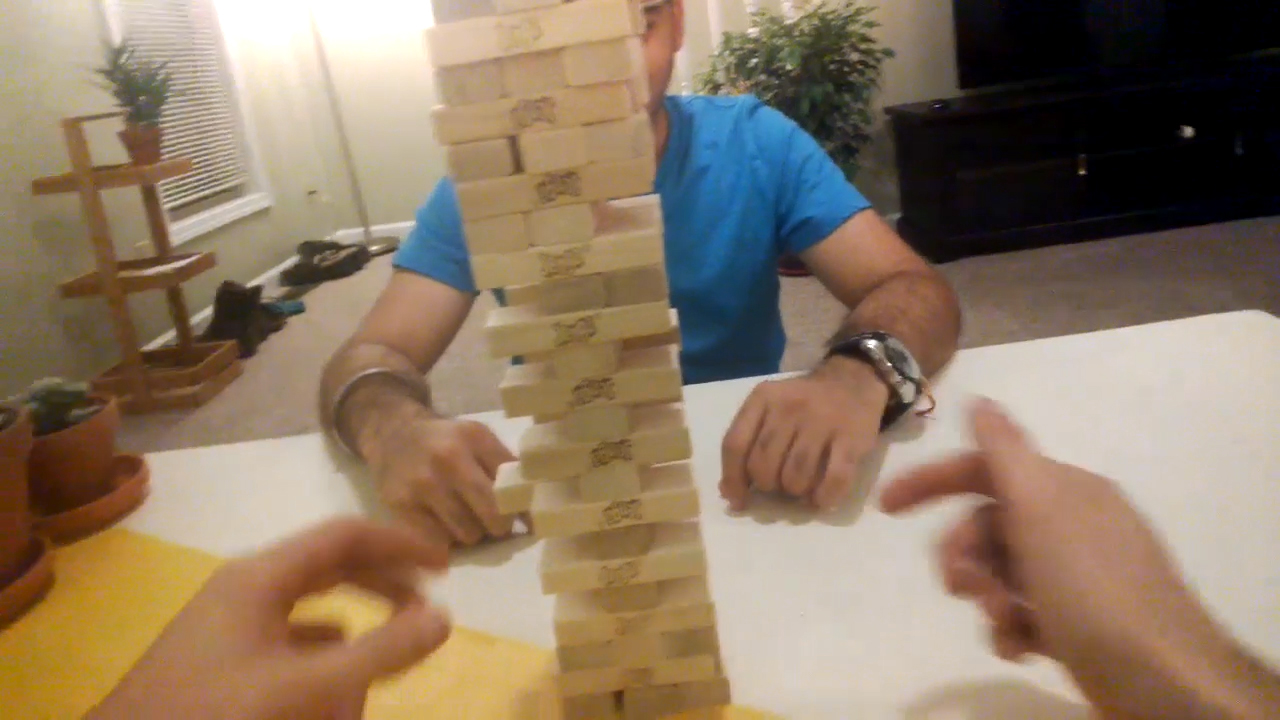hand: (875, 401, 1266, 715), (86, 525, 443, 714), (721, 358, 879, 508), (371, 416, 515, 540)
